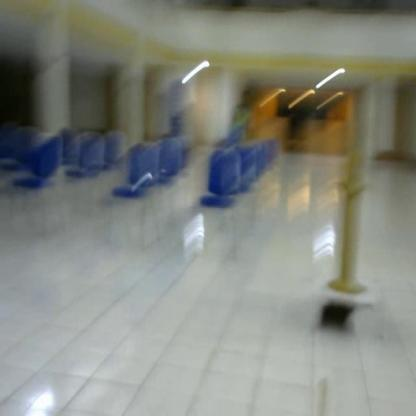pole: (324, 140, 377, 297)
